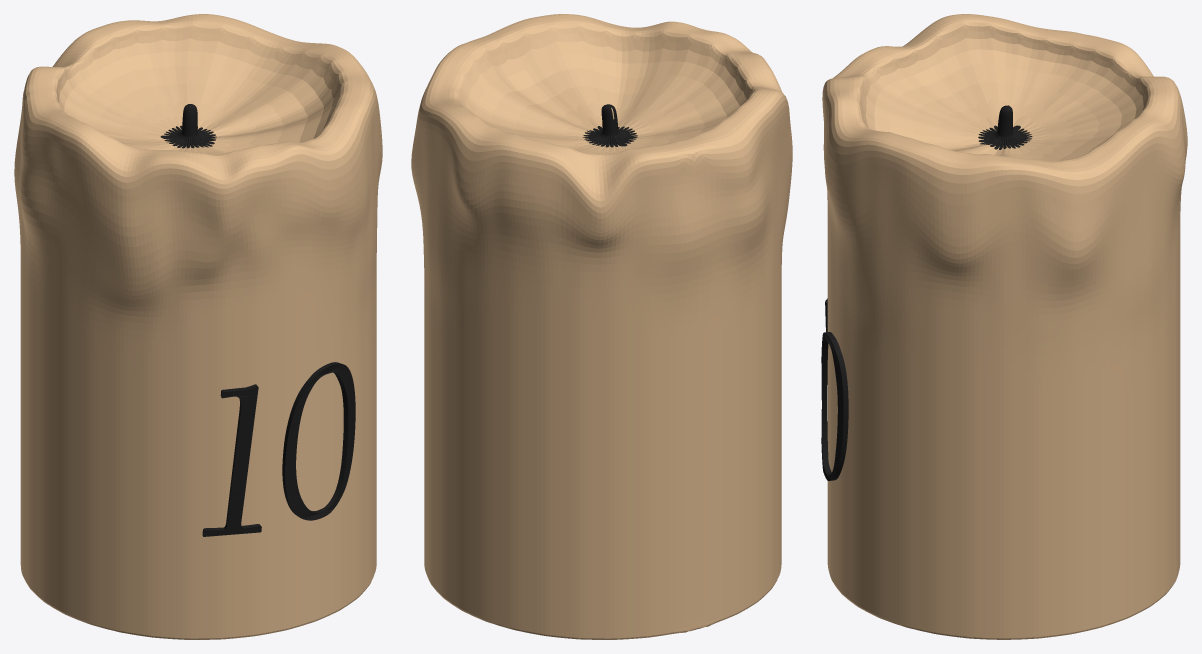
File: Candle-10.fbx
3 views of the same model, side by side, from view 1: azimuth 30°, elevation 25°; view 2: azimuth 150°, elevation 25°; view 3: azimuth 270°, elevation 25° (orthographic).
Visible parts, largest first — view 1: Candle, Text; view 2: Candle; view 3: Candle, Text.
Boxes of the visible parts, box(x1,y1,x2,y2) form: Candle: box(14, 14, 382, 639); Text: box(202, 362, 355, 536); Candle: box(411, 14, 792, 639); Candle: box(822, 14, 1187, 639); Text: box(821, 298, 848, 480).
Bounding box in the file's own units: 41.75 × 60.84 × 41.42.
